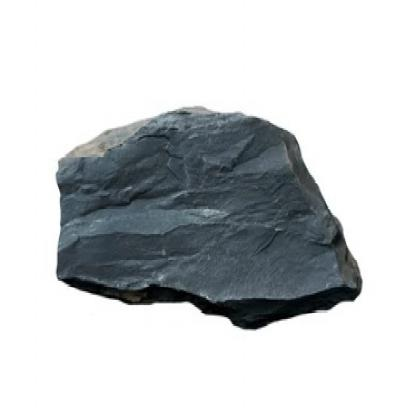Sedimentary_coal: (44, 82, 366, 330)
